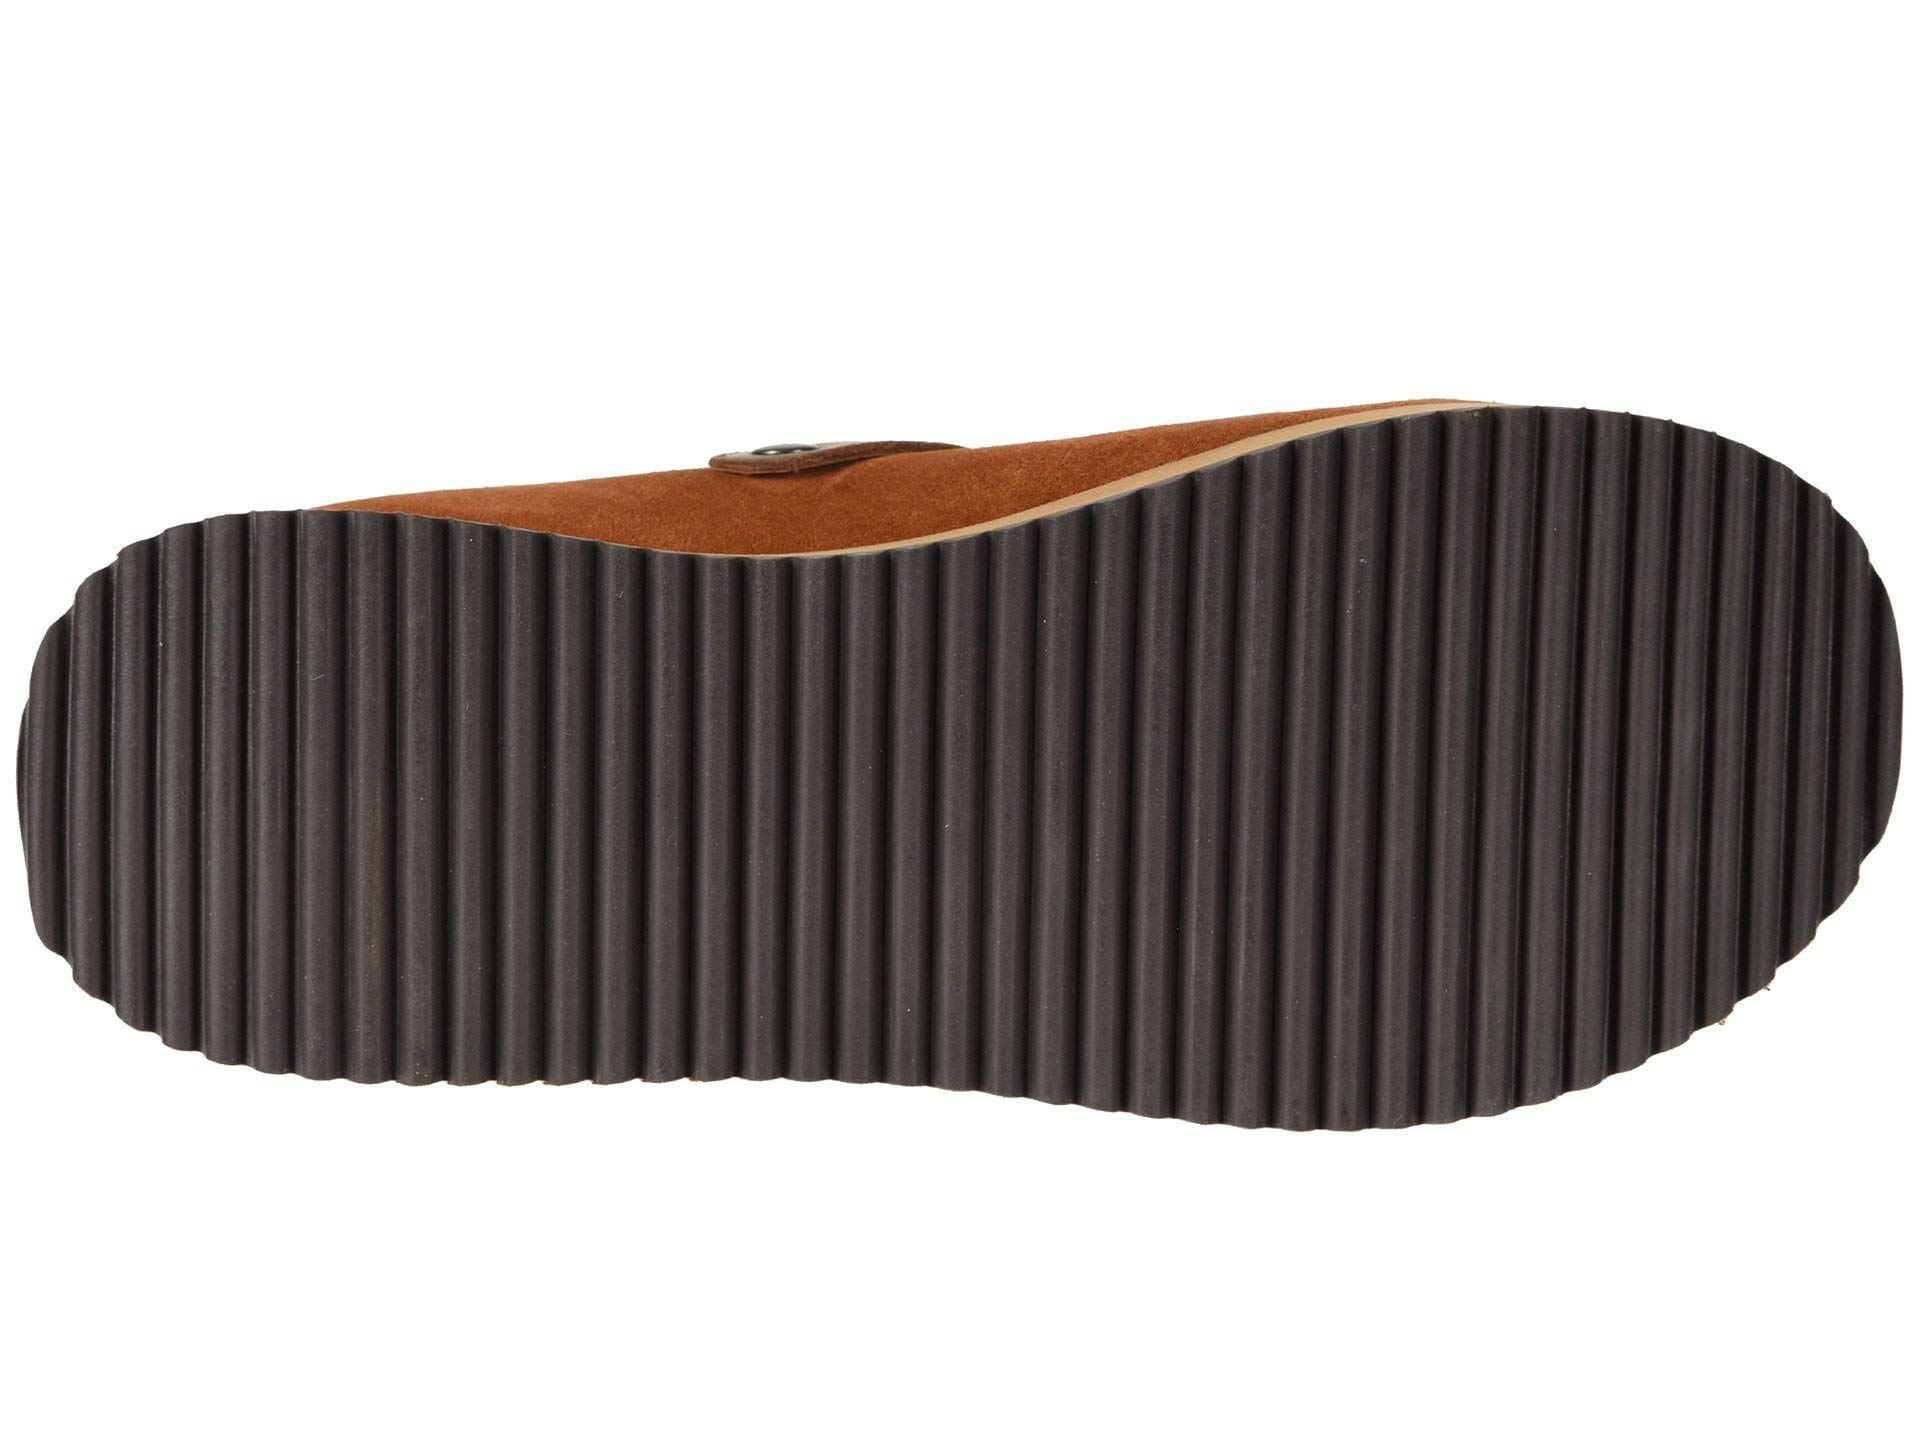exclude: (293, 271, 1587, 560)
line: (975, 557, 1453, 1051), (511, 605, 957, 1038), (92, 593, 478, 980), (1460, 483, 1761, 790), (1463, 796, 1696, 1030)
